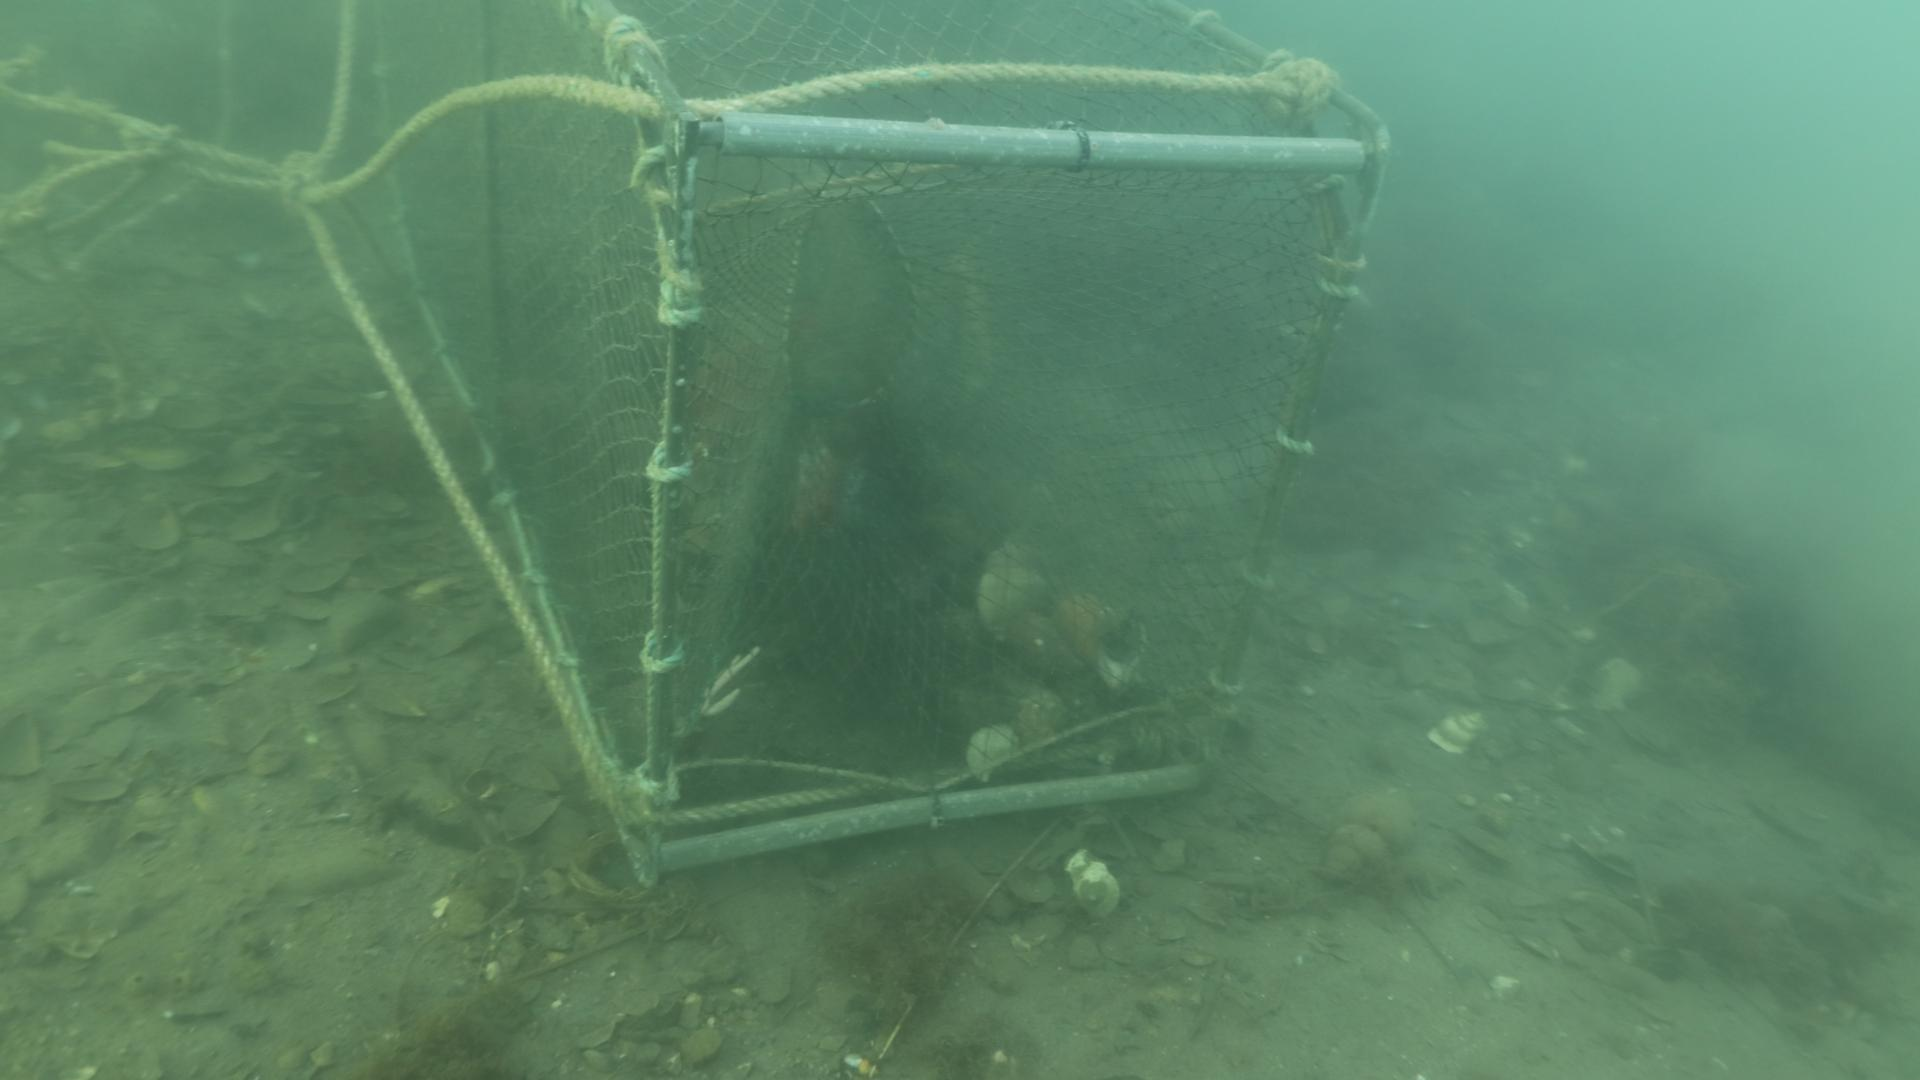bundle of ropes: (0, 0, 388, 356)
rectangular fish trap: (384, 0, 1395, 889)
